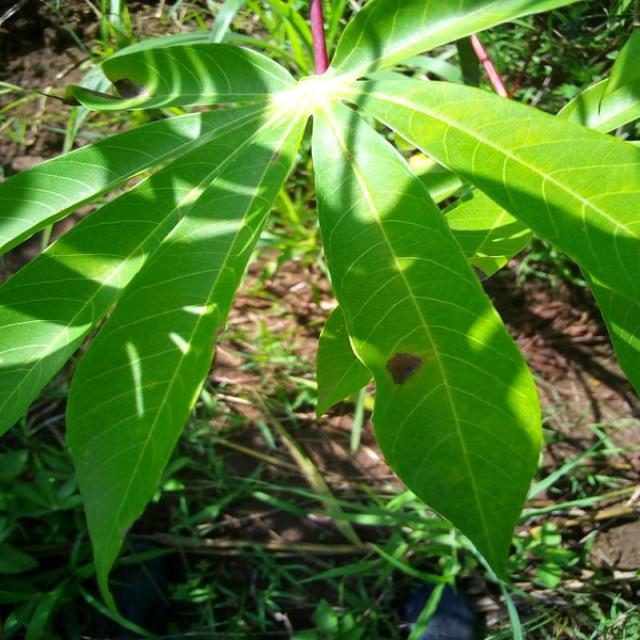cassava leaf: (0, 1, 638, 620), (310, 97, 544, 582)
